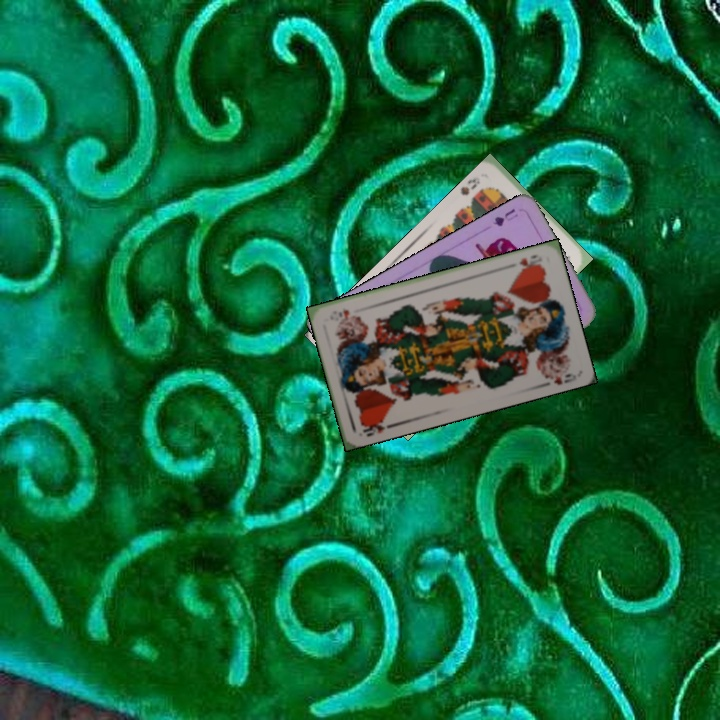GU: (489, 204, 521, 229)
HO: (357, 415, 397, 439), (515, 250, 545, 273)
S8: (456, 173, 483, 198)
